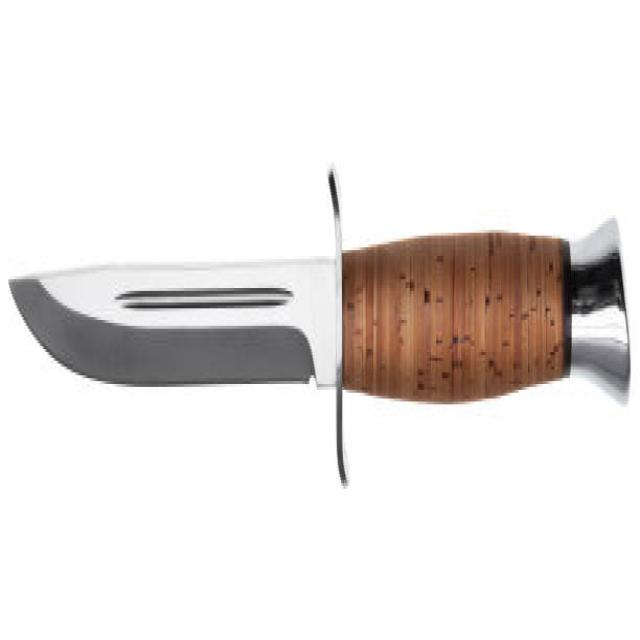knife: (8, 156, 634, 495)
